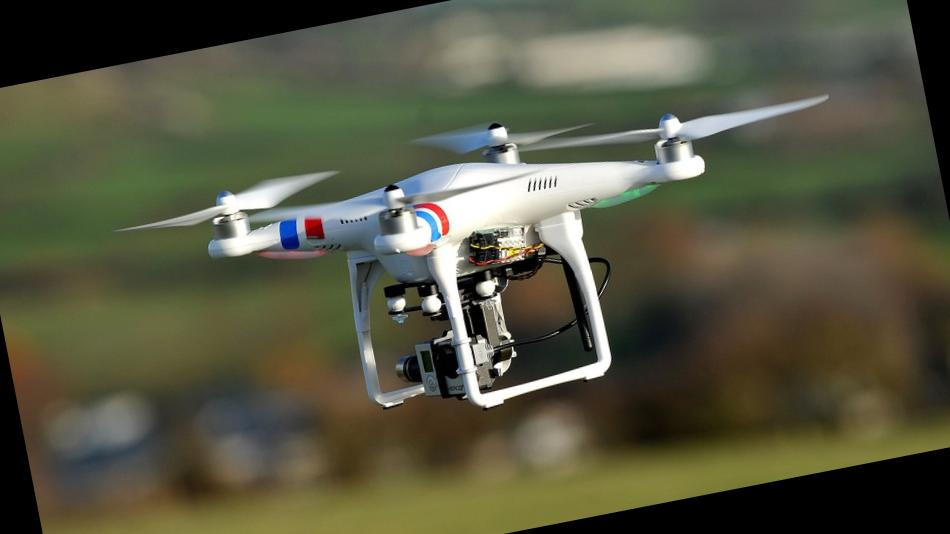drone: (155, 28, 854, 371)
